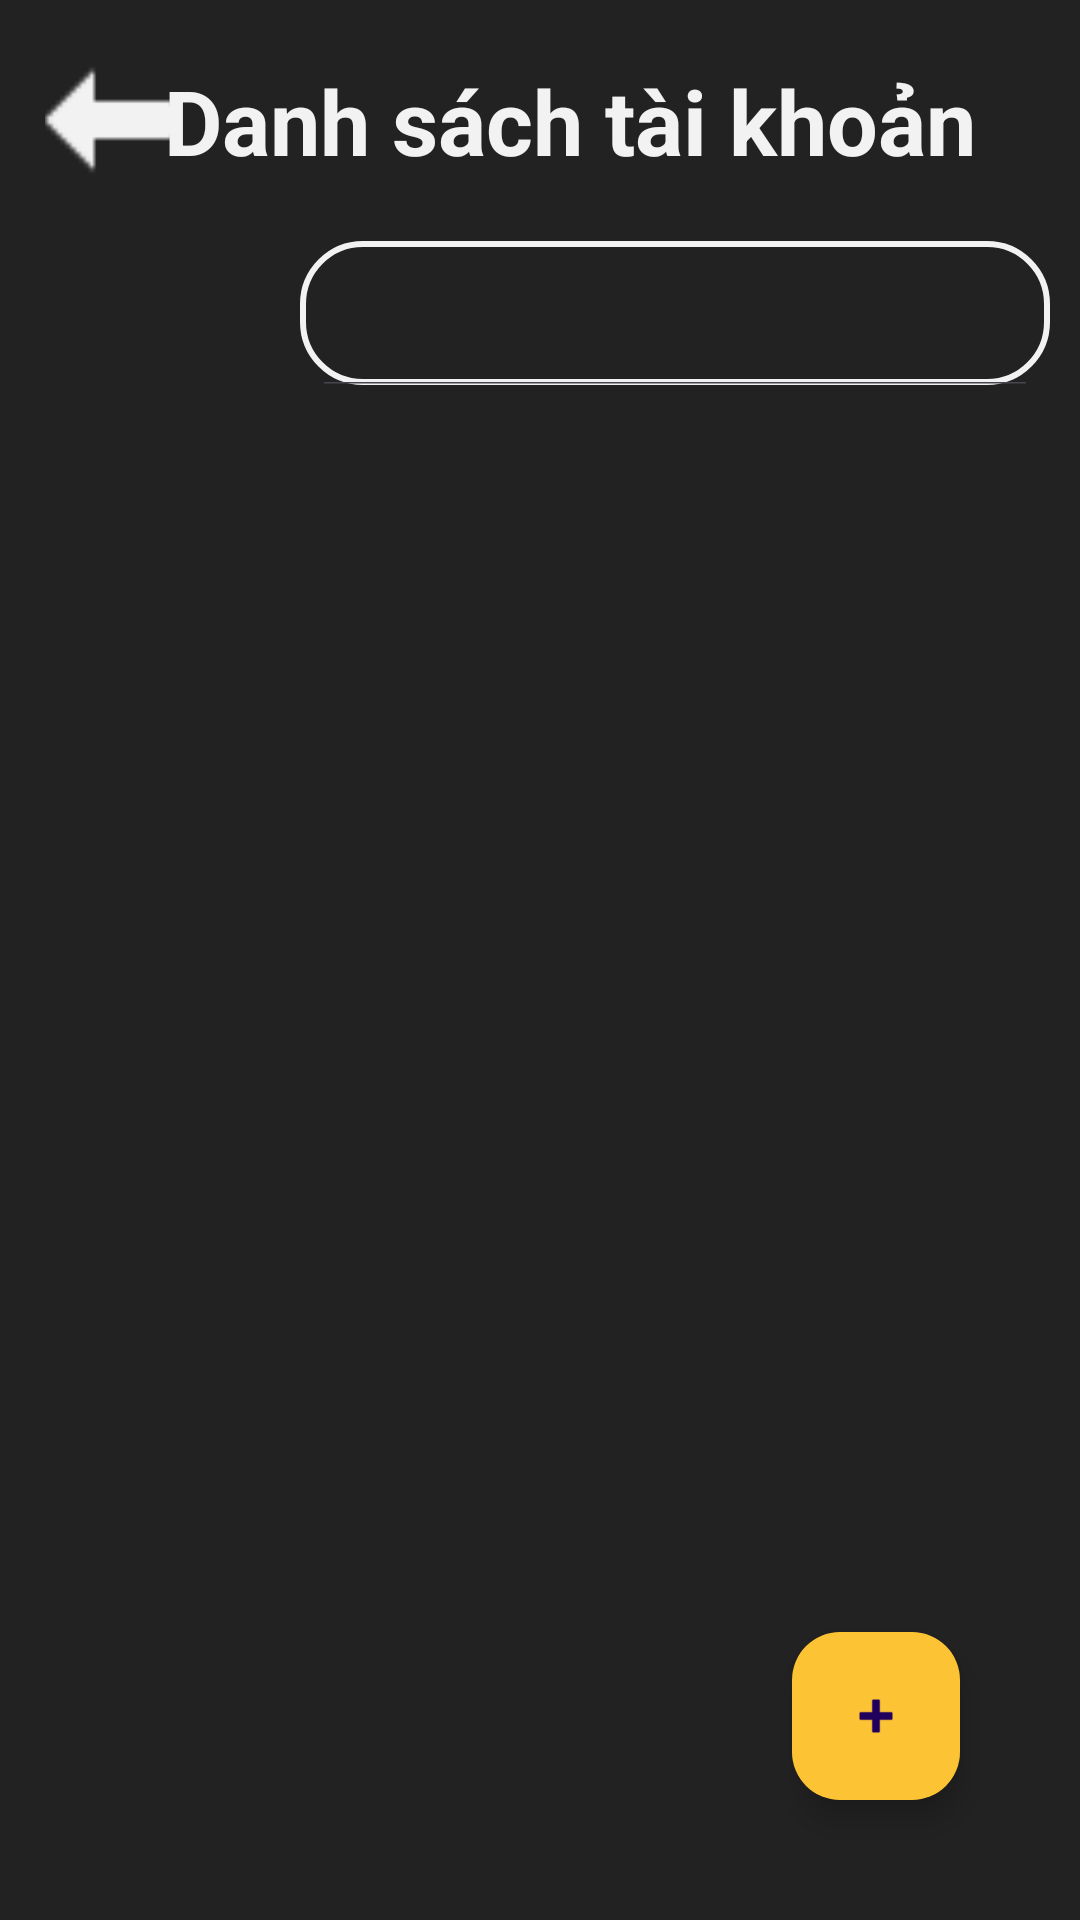

Icon click points for this 1080*1920 phone screenshot, format (x=x, y=y):
arrow: (x=112, y=120)
Thêm tài khoản: (x=876, y=1716)
